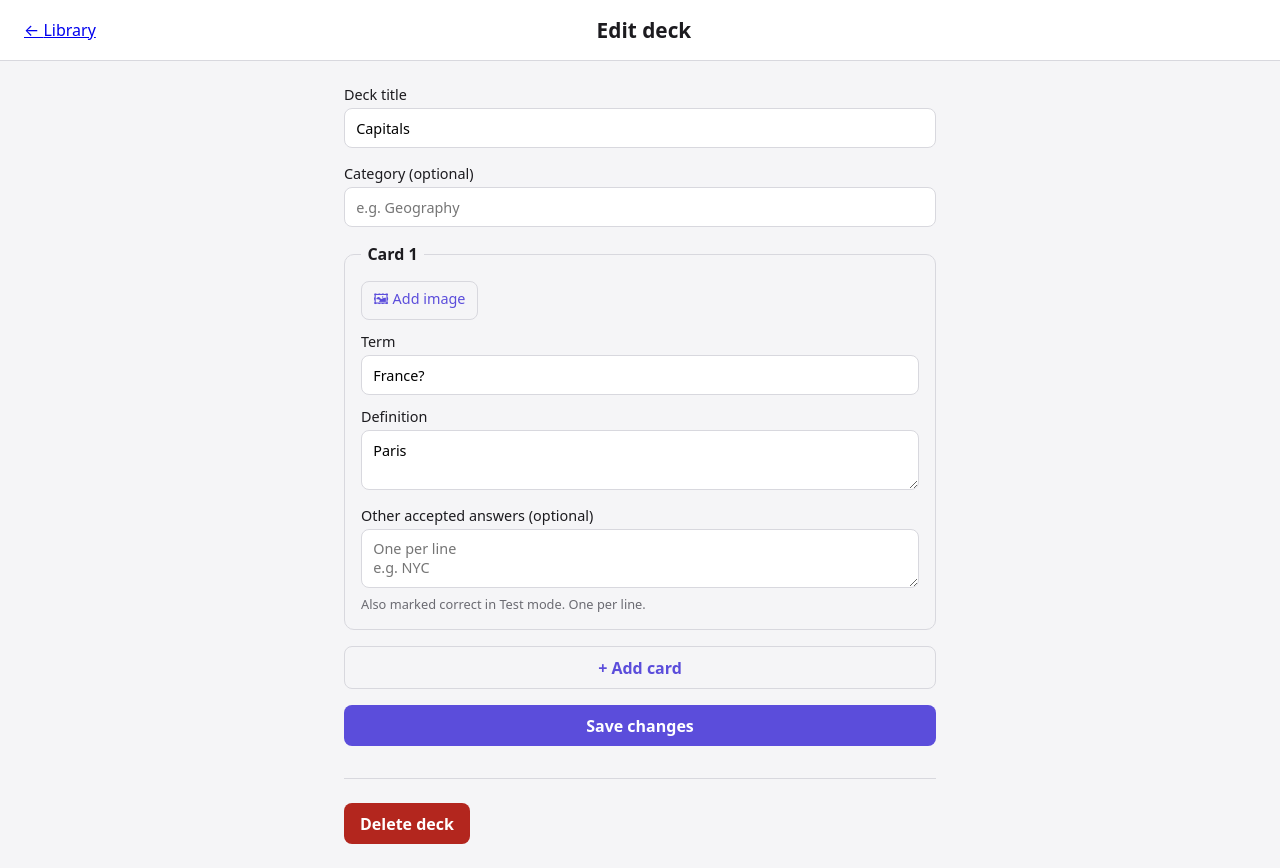
Test: EditDeckPage › maps a 404 on save to a friendly message
Click the button "Save changes" at (640, 726), box [344,705,936,746]
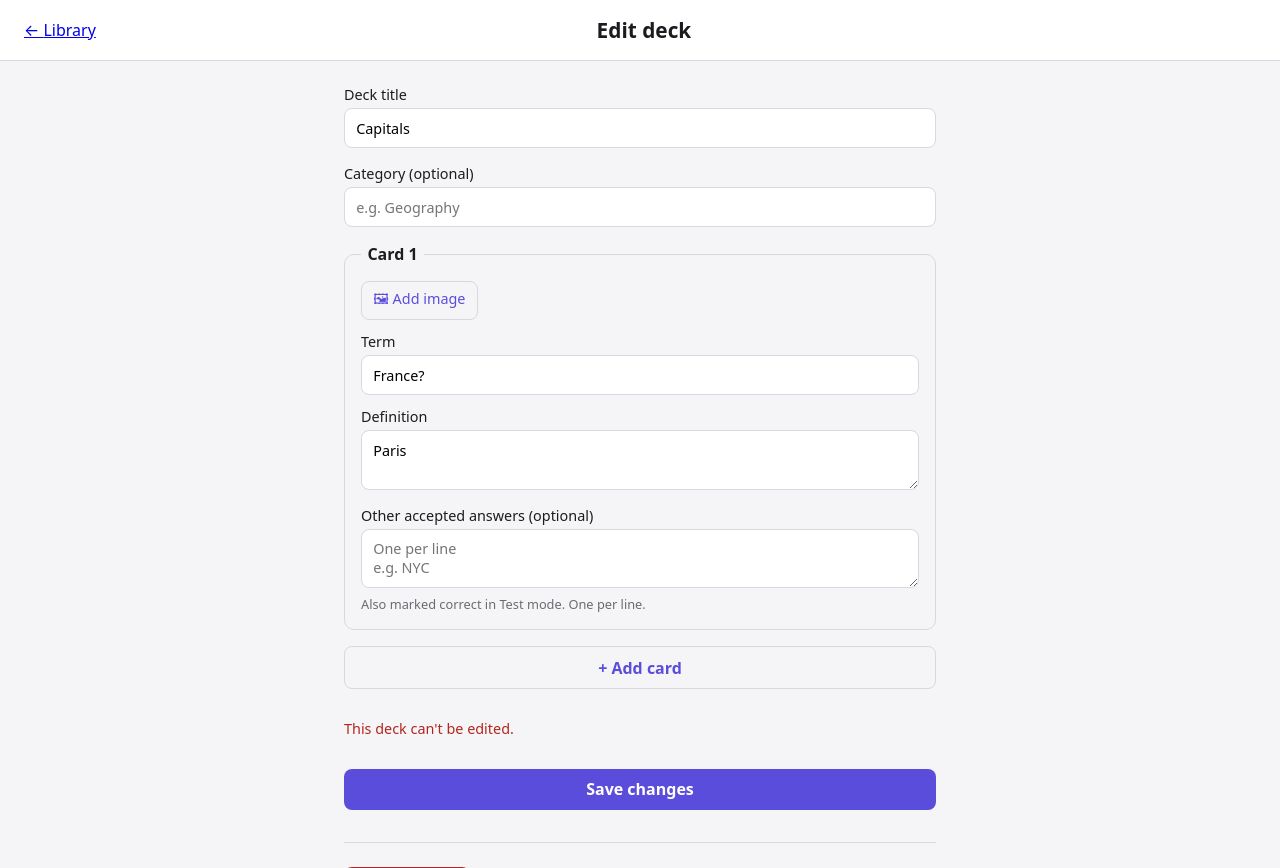
Now the text "This deck can't be edited." is shown, box [344,720,514,738]
